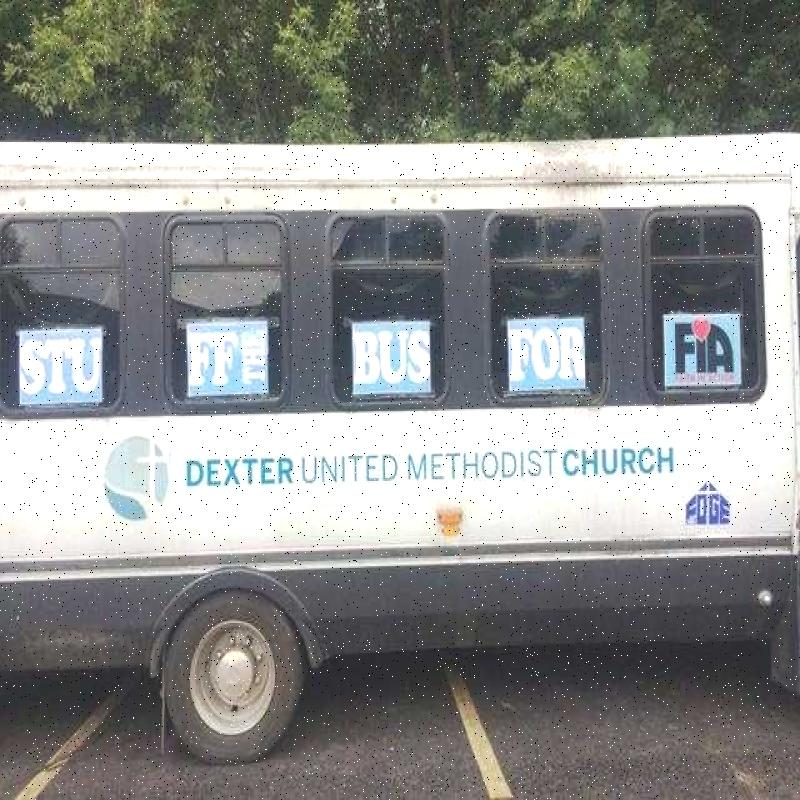bus: (8, 90, 800, 766)
